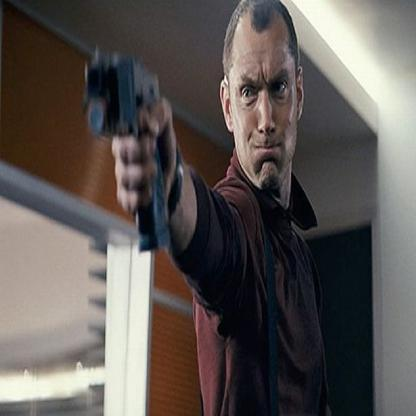Pistol: (71, 37, 184, 260)
